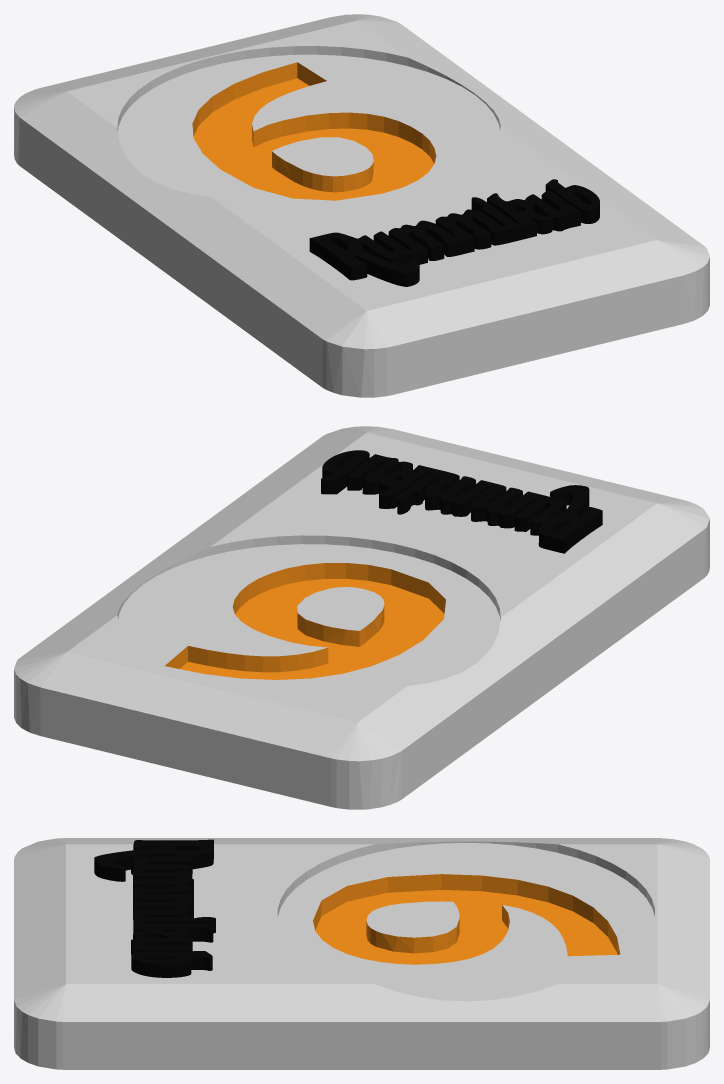
The picture shows the model from 3 angles, top to bottom: view 1: azimuth 30°, elevation 25°; view 2: azimuth 150°, elevation 25°; view 3: azimuth 270°, elevation 25°; orthographic projection.
Visible parts, largest first — view 1: Rummikub 6 Fixed, Rummikub 1 Fixed.001; view 2: Rummikub 6 Fixed, Rummikub 1 Fixed.001; view 3: Rummikub 6 Fixed, Rummikub 1 Fixed.001.
Part boxes in pixels (x1=…): Rummikub 6 Fixed: x1=14, y1=14, x2=709, y2=397; Rummikub 1 Fixed.001: x1=309, y1=179, x2=599, y2=286; Rummikub 6 Fixed: x1=14, y1=426, x2=709, y2=809; Rummikub 1 Fixed.001: x1=321, y1=450, x2=602, y2=553; Rummikub 6 Fixed: x1=14, y1=838, x2=709, y2=1069; Rummikub 1 Fixed.001: x1=94, y1=839, x2=215, y2=977.
Bounding box in the file's own units: 2499 × 489 × 4000.
